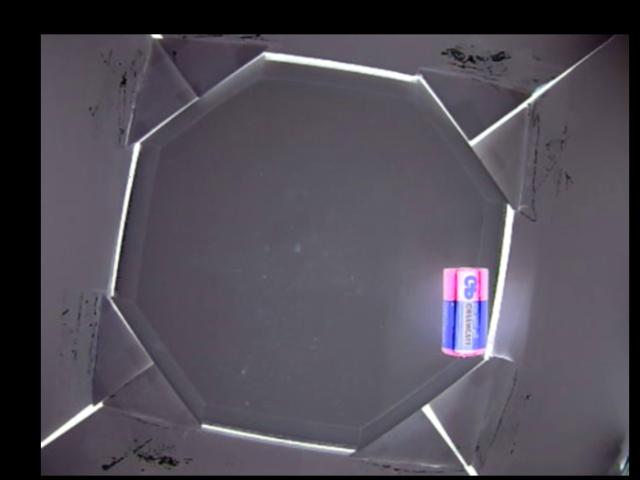Battery: (443, 267, 487, 357)
